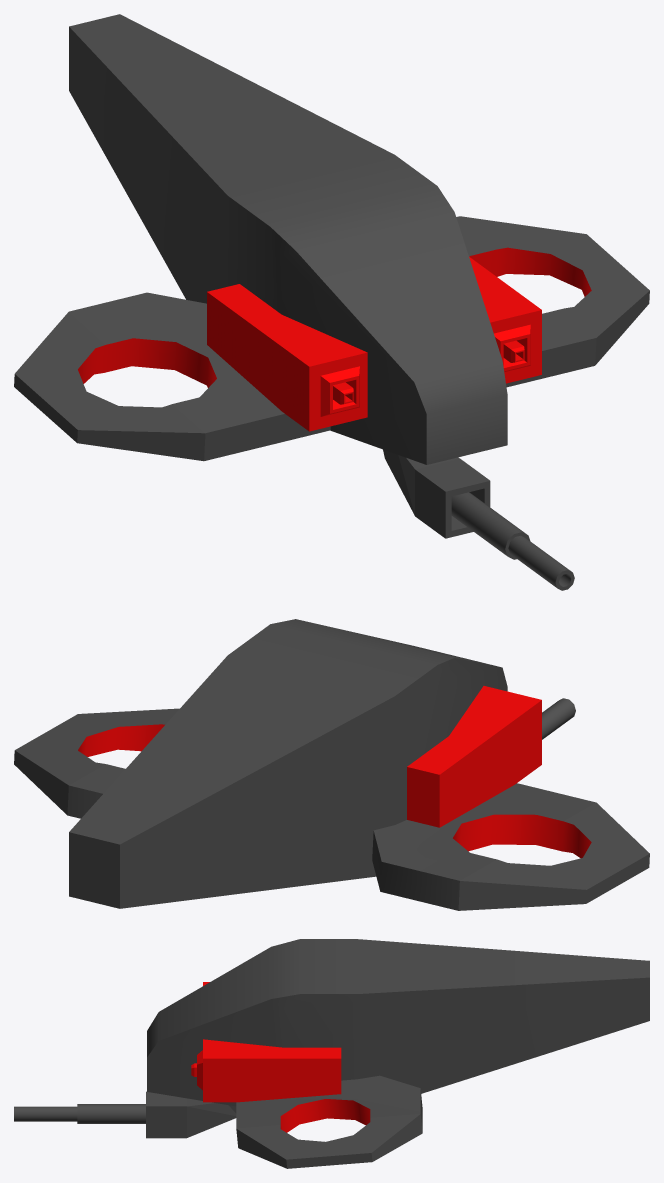
The model's file is helicopter.FBX.
The picture shows the model from 3 angles, top to bottom: view 1: azimuth 30°, elevation 25°; view 2: azimuth 150°, elevation 25°; view 3: azimuth 270°, elevation 25°; orthographic projection. The views are drawn at different scales.
Visible parts, largest first — view 1: armor, Box003, eye, Cylinder001; view 2: armor, Box003, eye, Cylinder001; view 3: armor, Box003, eye, Cylinder001.
Boxes of the visible parts, x1,y1,x2,y2 form: armor: [69, 14, 507, 464]; Box003: [14, 216, 649, 538]; eye: [78, 247, 591, 431]; Cylinder001: [451, 492, 574, 590]; armor: [69, 619, 507, 908]; Box003: [14, 708, 649, 910]; eye: [78, 686, 591, 858]; Cylinder001: [542, 698, 575, 739]; armor: [147, 939, 649, 1106]; Box003: [146, 1075, 422, 1168]; eye: [191, 982, 370, 1132]; Cylinder001: [14, 1104, 145, 1123].
Size of the model in its own units: 764 by 310 by 1090.
